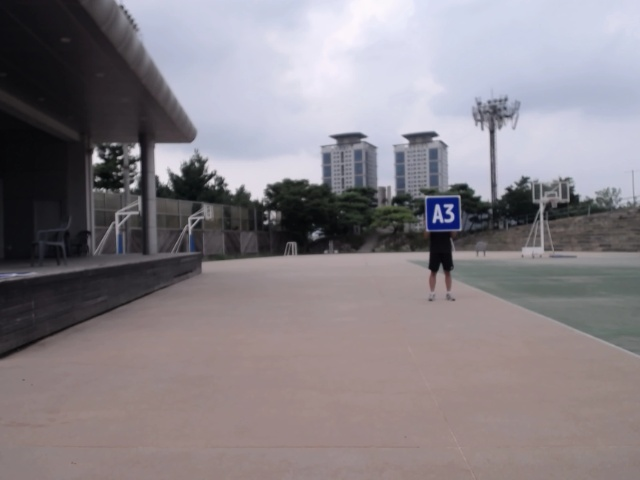delivery_a3: (425, 195, 461, 231)
